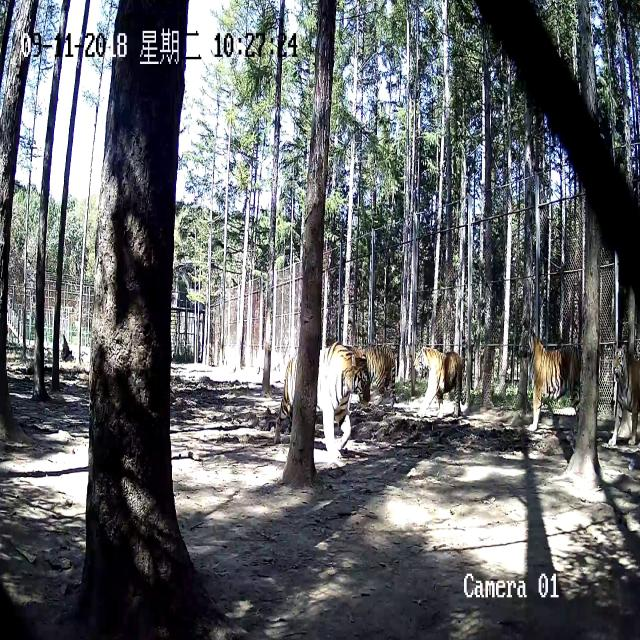Tiger: (267, 322, 374, 483), (517, 319, 597, 454), (411, 335, 470, 429), (612, 340, 640, 477), (365, 339, 410, 416)
